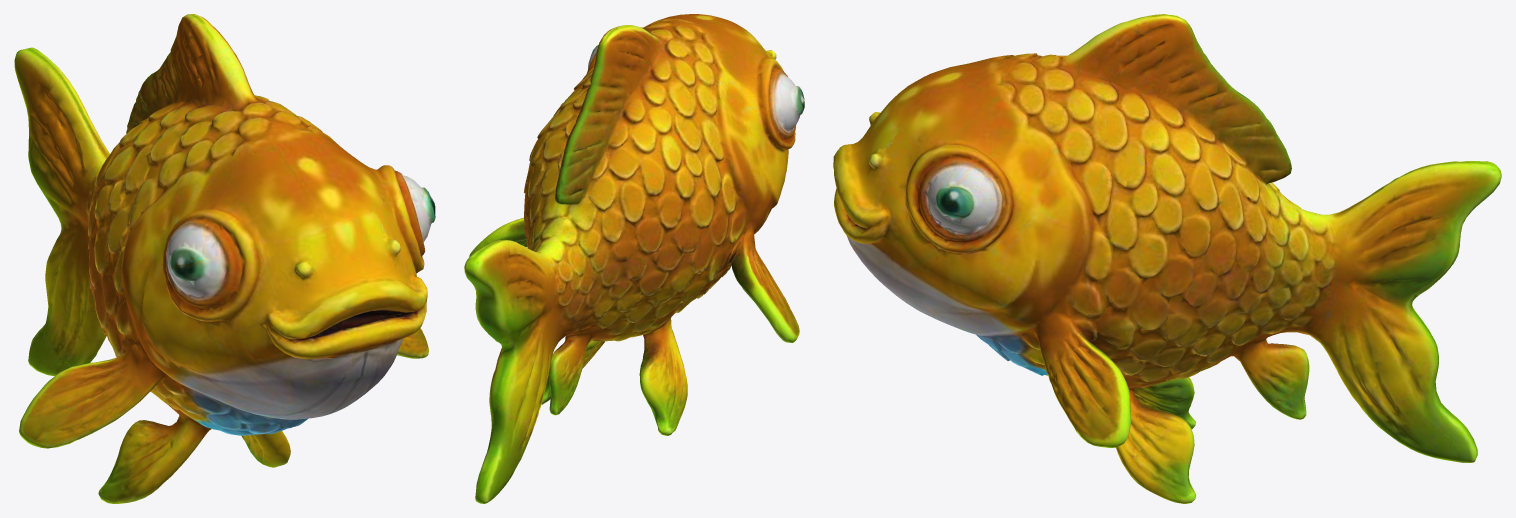
3 renders of one model, left to right at view 1: azimuth 30°, elevation 25°; view 2: azimuth 150°, elevation 25°; view 3: azimuth 270°, elevation 25°, orthographic. The views are drawn at different scales.
Size of the model in its own units: 1.26 by 1.42 by 1.9.
Materials: 1 (1 with a texture image).
